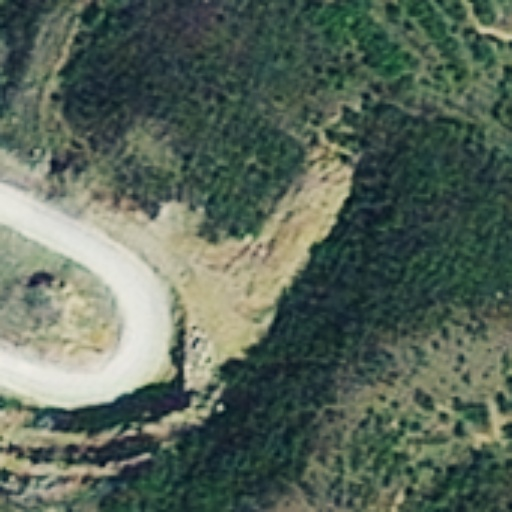landslide: (181, 156, 360, 395)
